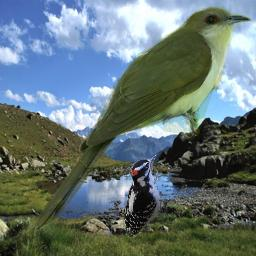Cuckoo: (34, 6, 252, 233)
Woodpecker: (125, 153, 170, 238)
